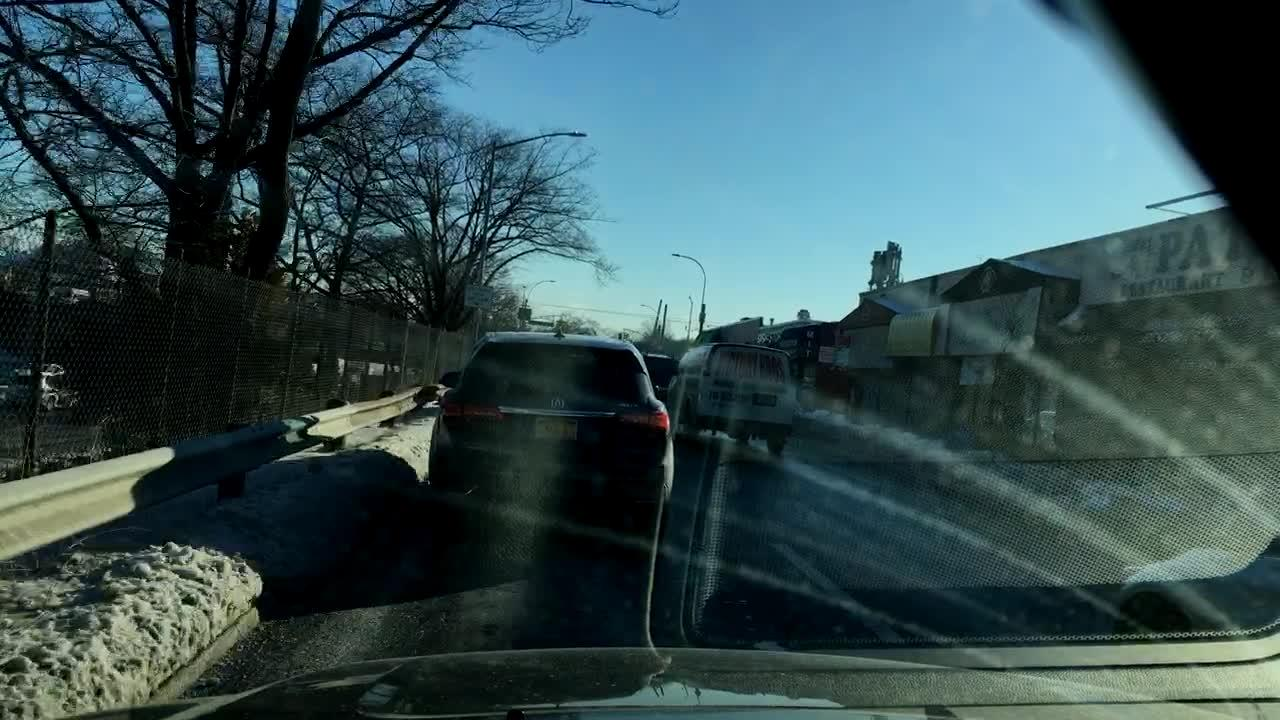acura: (548, 393, 568, 412)
